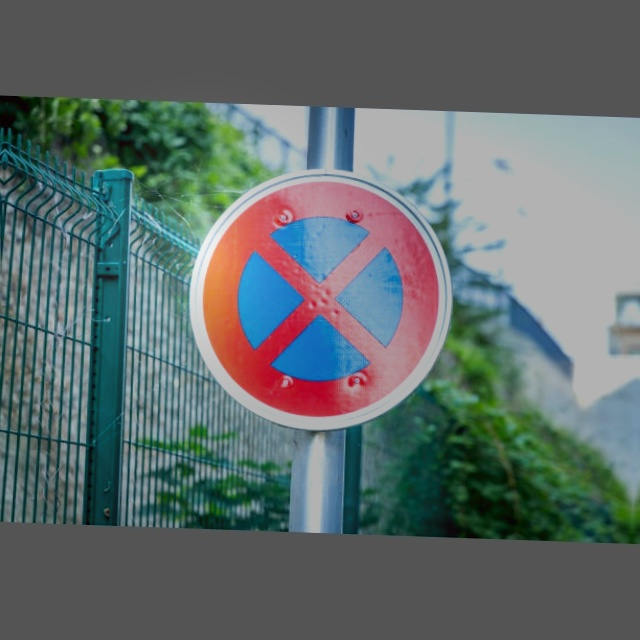No_Stopping_or_Standing: (191, 182, 456, 422)
